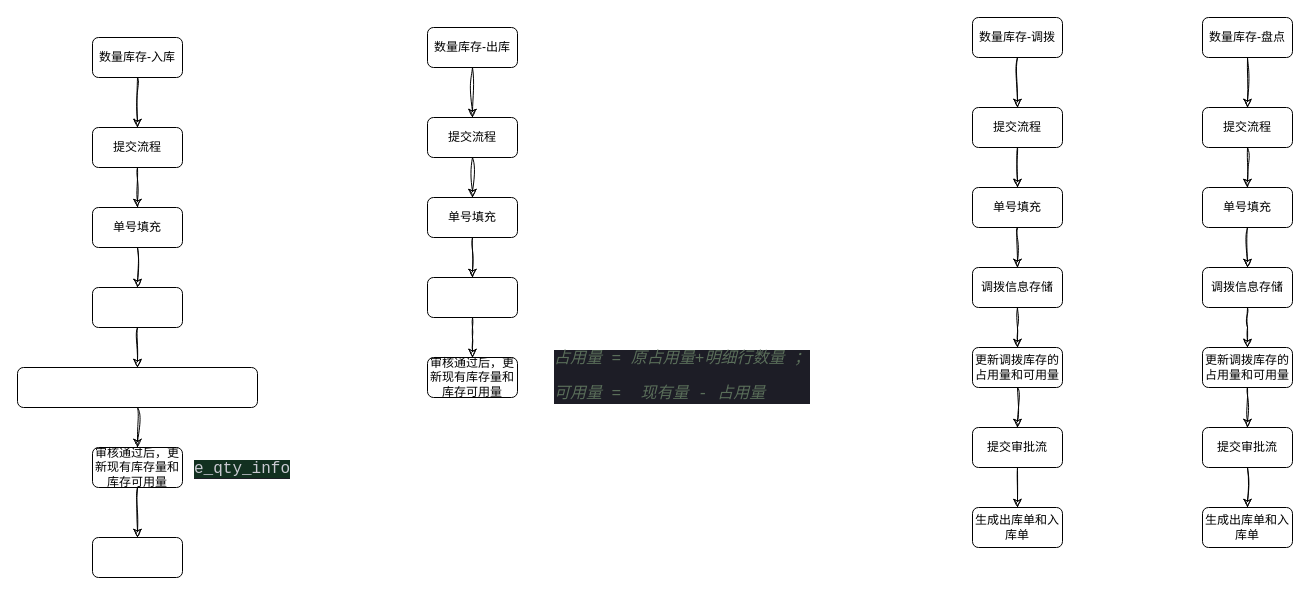
This 1310x595 diagram has some shape labels left out. Each missing label, with the centre of its shape:
"入库信息存储" goes at (137,307).
"出库信息存储" goes at (472,297).
"如果是领用归还入库，则更新对应出库单的归还量 其他入库类型忽略该流程" goes at (137,387).
"库存记录不存在，则插入" goes at (137,557).
